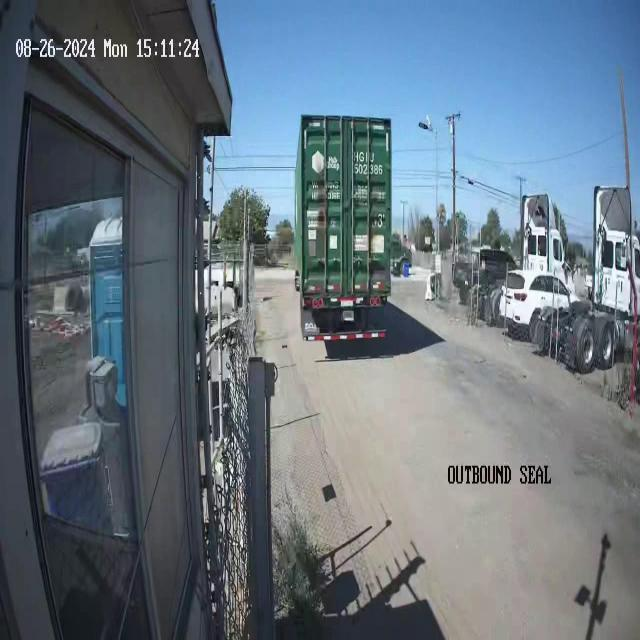TRUCK_OUT: (294, 112, 392, 340)
